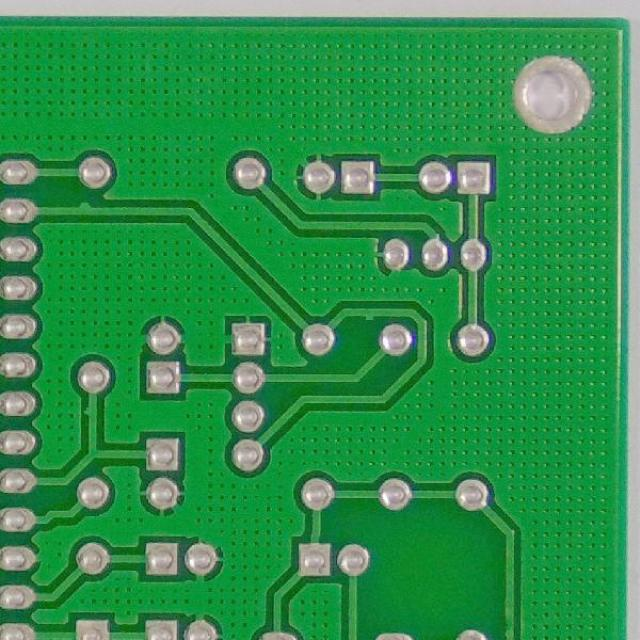Spur: (70, 197, 102, 221), (77, 401, 104, 420), (359, 305, 378, 324)
